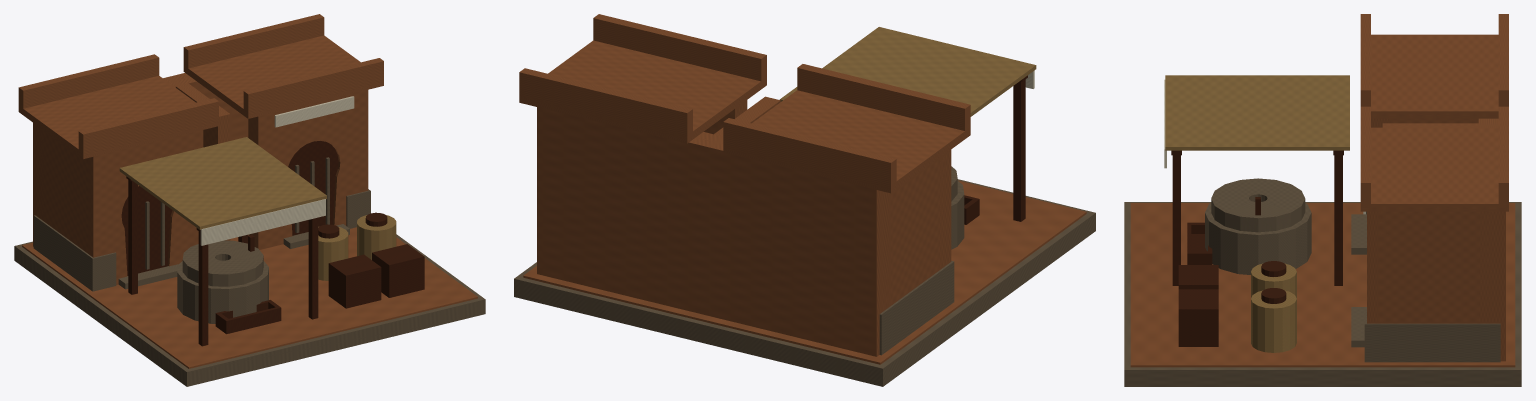
File: Berber_Mill_Age2.fbx
The picture shows the model from 3 angles, left to right: view 1: azimuth 30°, elevation 25°; view 2: azimuth 150°, elevation 25°; view 3: azimuth 270°, elevation 25°; orthographic projection. The views are drawn at different scales.
Parts seen in each view (by area): view 1: courtyard_floor, woven_shade, courtyard_foundation, store_front.001, store_front, store_roof.001, store_roof, store_westwall, roof_front_parapet, roof_front_parapet.001, roof_back_parapet, roof_back_parapet.001 (+19 smaller); view 2: store_backwall, courtyard_foundation, courtyard_floor, store_roof.001, store_roof, woven_shade, store_westwall, roof_back_parapet, roof_back_parapet.001, roof_front_parapet.001, roof_front_parapet, corner_stone (+4 smaller); view 3: courtyard_floor, woven_shade, store_eastwall, store_roof.001, store_roof, courtyard_foundation, corner_stone.001, millstone_bed, rotary_runner, store_backwall, grain_sack.001, raised_storage_bin.001 (+16 smaller).
Boxes of the visible parts, x1=… form: courtyard_floor: x1=22, y1=227, x2=477, y2=368; woven_shade: x1=119, y1=137, x2=326, y2=229; courtyard_foundation: x1=14, y1=234, x2=485, y2=386; store_front.001: x1=248, y1=90, x2=368, y2=249; store_front: x1=89, y1=130, x2=203, y2=284; store_roof.001: x1=183, y1=35, x2=383, y2=118; store_roof: x1=18, y1=76, x2=218, y2=159; store_westwall: x1=39, y1=127, x2=88, y2=253; roof_front_parapet: x1=78, y1=98, x2=218, y2=155; roof_front_parapet.001: x1=243, y1=58, x2=383, y2=115; roof_back_parapet: x1=18, y1=54, x2=159, y2=111; roof_back_parapet.001: x1=183, y1=14, x2=324, y2=68; store_backwall: x1=537, y1=107, x2=891, y2=356; courtyard_foundation: x1=514, y1=179, x2=1095, y2=386; courtyard_floor: x1=523, y1=180, x2=1086, y2=364; store_roof.001: x1=519, y1=40, x2=766, y2=143; store_roof: x1=723, y1=90, x2=970, y2=193; woven_shade: x1=779, y1=27, x2=1036, y2=116; store_westwall: x1=884, y1=154, x2=945, y2=310; roof_back_parapet: x1=723, y1=118, x2=896, y2=189; roof_back_parapet.001: x1=519, y1=68, x2=692, y2=139; roof_front_parapet.001: x1=593, y1=14, x2=766, y2=84; roof_front_parapet: x1=797, y1=64, x2=970, y2=131; corner_stone: x1=879, y1=260, x2=954, y2=355; courtyard_floor: x1=1130, y1=203, x2=1515, y2=367; woven_shade: x1=1165, y1=75, x2=1349, y2=150; store_eastwall: x1=1377, y1=211, x2=1492, y2=323; store_roof.001: x1=1360, y1=127, x2=1508, y2=211; store_roof: x1=1371, y1=34, x2=1498, y2=118; courtyard_foundation: x1=1124, y1=202, x2=1521, y2=386; corner_stone.001: x1=1364, y1=311, x2=1500, y2=362; millstone_bed: x1=1205, y1=203, x2=1311, y2=274; rotary_runner: x1=1211, y1=178, x2=1305, y2=232; store_backwall: x1=1478, y1=118, x2=1505, y2=361; grain_sack.001: x1=1251, y1=290, x2=1296, y2=352; raised_storage_bin.001: x1=1178, y1=289, x2=1218, y2=346.
Size of the model in its own units: 383 by 216 by 380.
5 materials, 5 textured.
